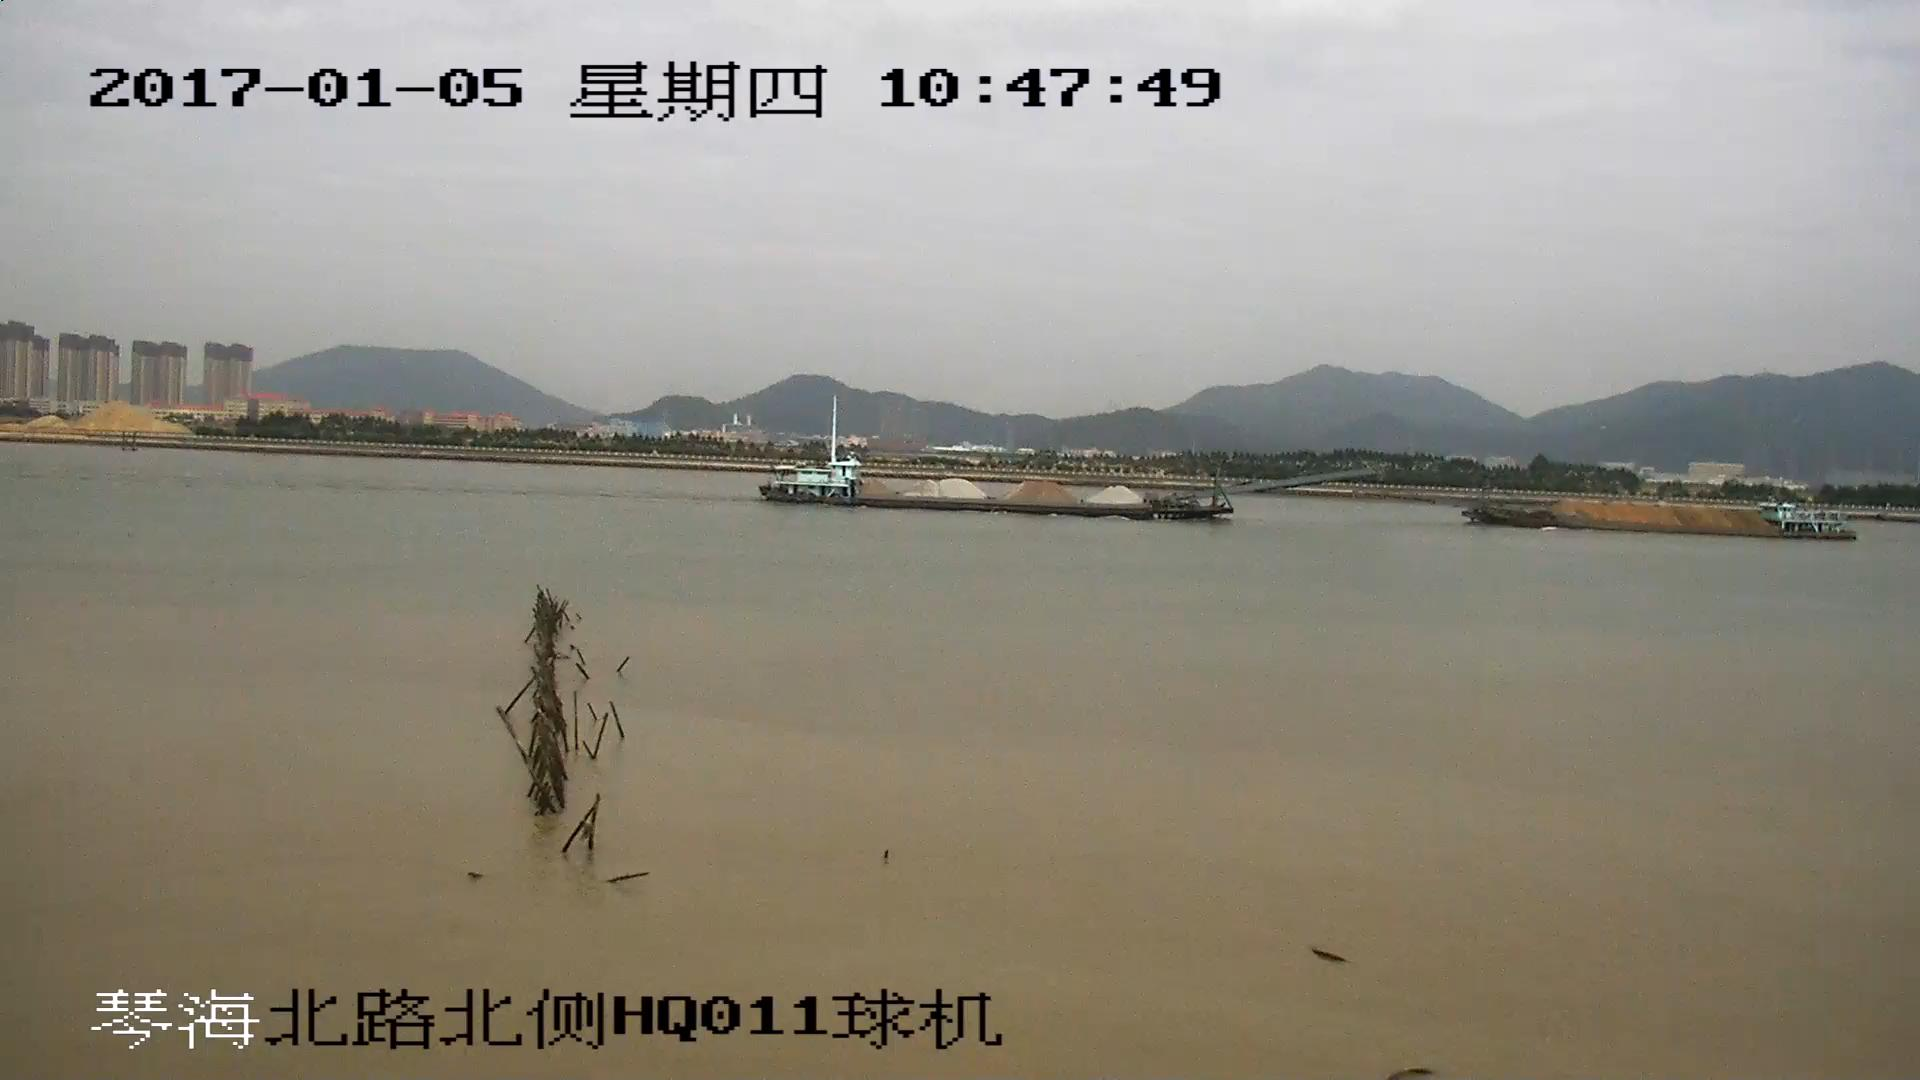ore carrier: (762, 396, 1368, 524), (1470, 488, 1850, 540)
